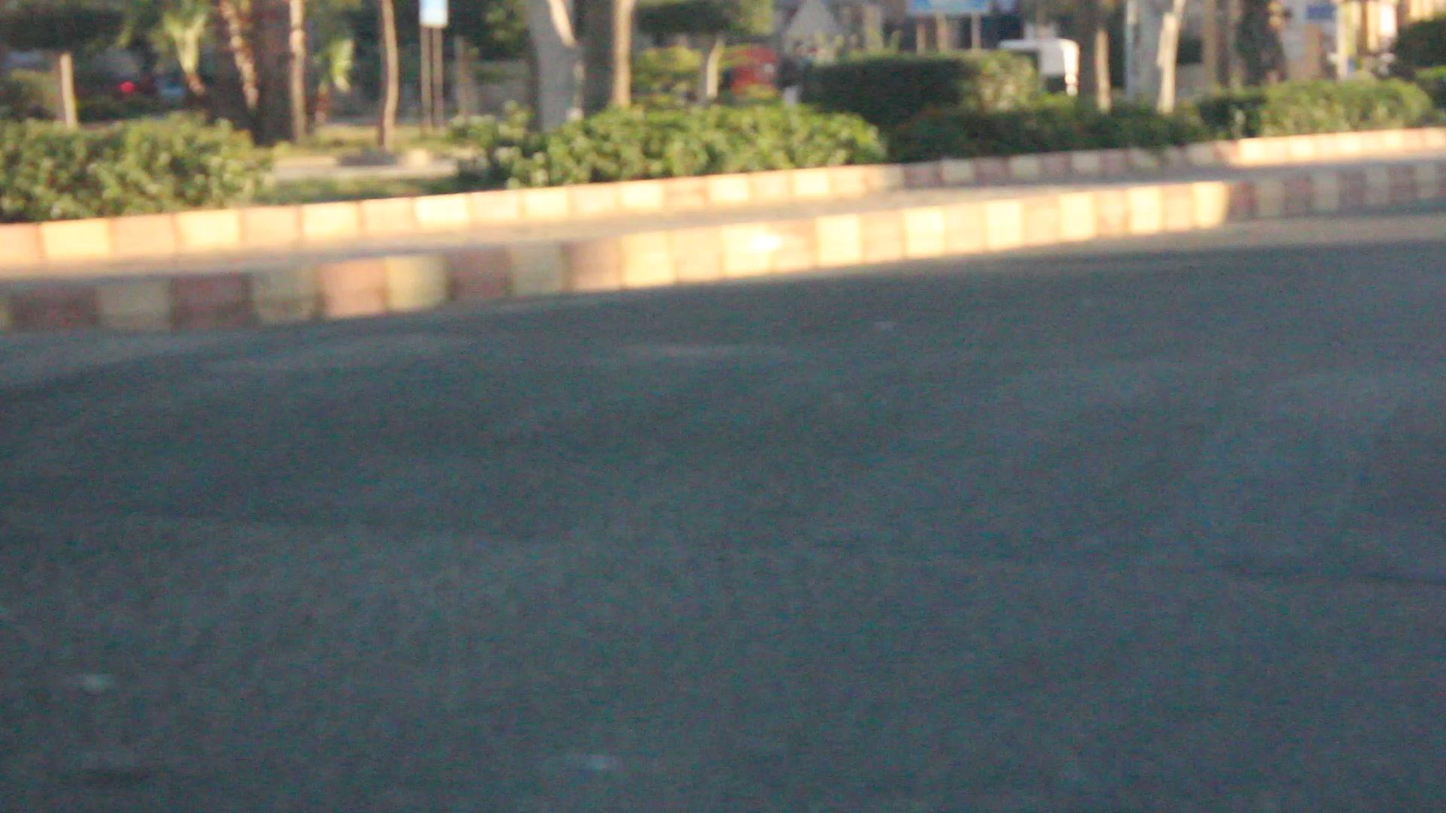Bump: (5, 326, 1445, 580)
